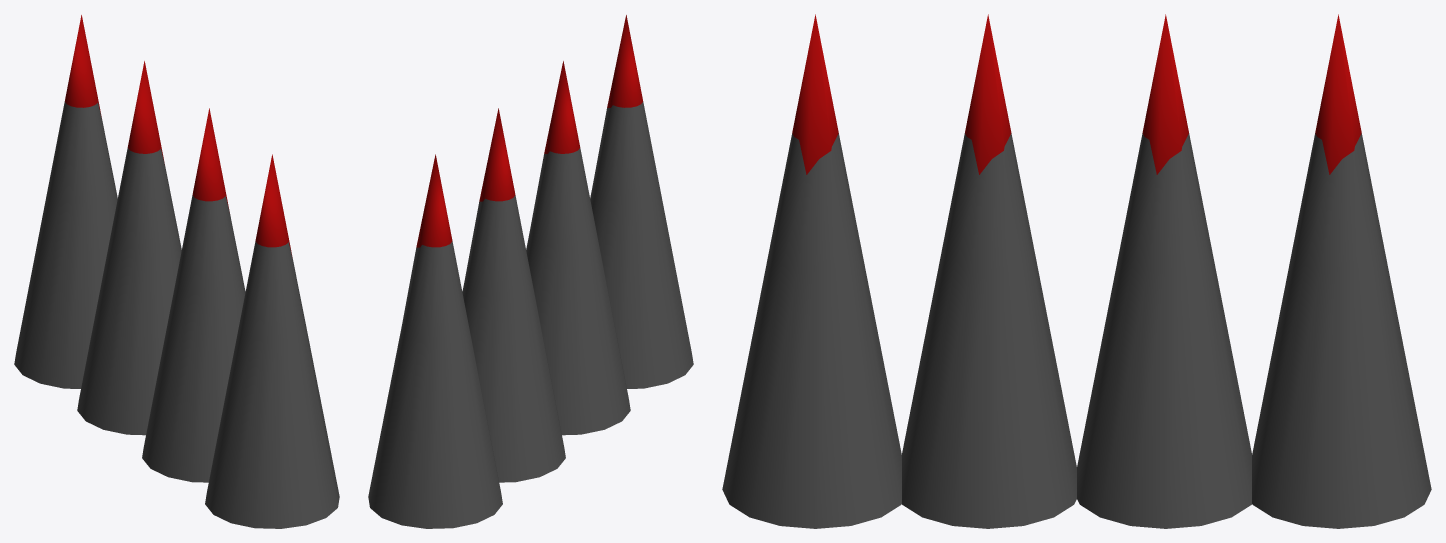
The model's file is Spikes4_01.fbx.
3 views of the same model, side by side, from view 1: azimuth 30°, elevation 25°; view 2: azimuth 150°, elevation 25°; view 3: azimuth 270°, elevation 25° (orthographic). The views are drawn at different scales.
Parts seen in each view (by area): view 1: pCone19; view 2: pCone19; view 3: pCone19.
Boxes of the visible parts, bbox=[...] form: pCone19: bbox=[14, 15, 339, 528]; pCone19: bbox=[368, 15, 693, 528]; pCone19: bbox=[722, 14, 1431, 528].
Bounding box in the file's own units: 11.15 × 31.39 × 42.43.
